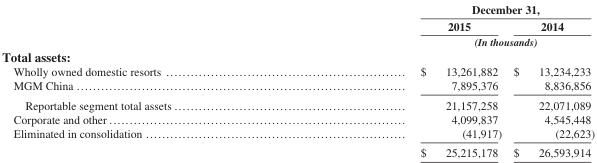table: (1, 0, 594, 159)
table column: (1, 0, 295, 159), (295, 0, 506, 159), (506, 0, 594, 159)
table column header: (1, 0, 594, 34)
table row: (1, 34, 594, 64), (1, 0, 594, 17), (1, 17, 594, 34), (1, 77, 594, 94), (1, 94, 594, 111), (1, 125, 594, 142), (1, 142, 594, 159), (1, 111, 594, 125), (1, 64, 594, 77)
table spanning cell: (295, 34, 594, 64), (295, 0, 594, 17)
